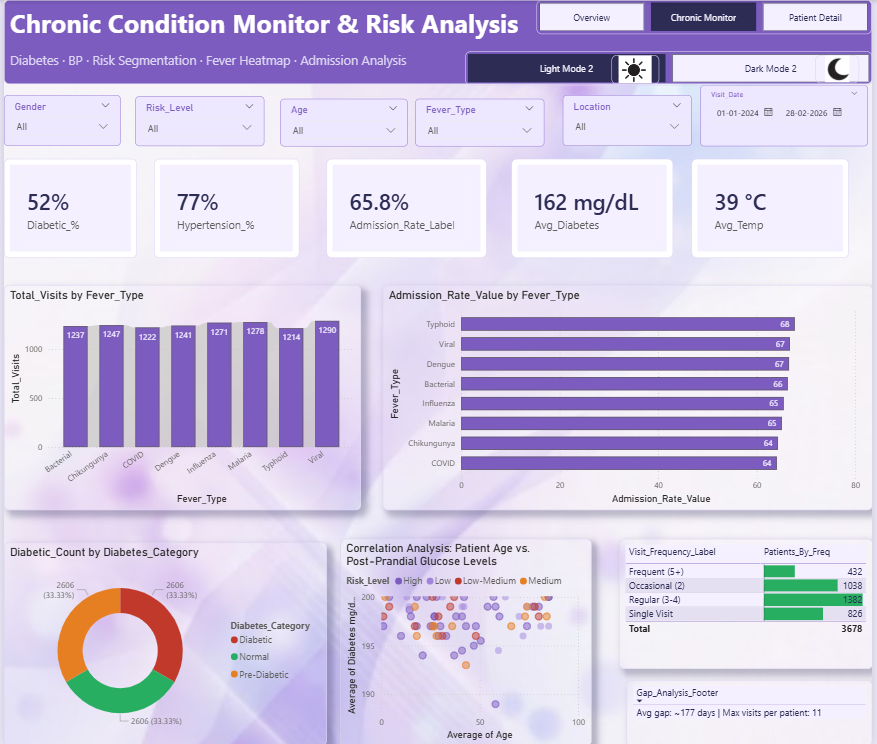

What the dashboard file says about the page in this screenshot:
{"tool":"powerbi","page":{"name":"Chronic Monitor","canvas":[1280,1100],"ordinal":1},"visuals":[{"type":"slicer","fields":{"Values":["Patient_Symptoms.Gender"]},"box":[0,140,171.7,75],"z":1000},{"type":"slicer","fields":{"Values":["Fever_Type_Profile.Risk_Level"]},"box":[193.3,141.7,190,73.3],"z":2000},{"type":"slicer","fields":{"Values":["Patient_Symptoms.Age"]},"box":[406.7,145,188.3,70],"z":3000},{"type":"slicer","fields":{"Values":["Fever_Type_Profile.Fever_Type"]},"box":[606.7,145,190,70],"z":4000},{"type":"slicer","fields":{"Values":["Patient_Symptoms.Location"]},"box":[823.3,140,190,75],"z":5000},{"type":"slicer","fields":{"Values":["Patient_Symptoms.Visit_Date"]},"box":[1026.2,125,247.5,90],"z":6000},{"type":"cardVisual","fields":{"Data":["Medication.Diabetic_Pct"]},"box":[0,234,196,146],"z":7000},{"type":"cardVisual","fields":{"Data":["Medication.Hypertension_Pct"]},"box":[222,234,214,146],"z":8000},{"type":"cardVisual","fields":{"Data":["Blood_Test_Results.Admission_Rate_Label"]},"box":[476,234,236,146],"z":9000},{"type":"cardVisual","fields":{"Data":["Blood_Test_Results.Avg_Diabetes"]},"box":[748,234,238,146],"z":10000},{"type":"cardVisual","fields":{"Data":["Blood_Test_Results.Avg_Temperature"]},"box":[1014,234,232,146],"z":11000},{"type":"ribbonChart","fields":{"Category":["Fever_Type_Profile.Risk_Level","Fever_Type_Profile.Fever_Type"],"Y":["Divide(Blood_Test_Results.Total_Visits, ScopedEval(Blood_Test_Results.Total_Visits, [Role.Rows]))"]},"box":[0,420,526,332],"z":12000},{"type":"clusteredBarChart","fields":{"Category":["Fever_Type_Profile.Fever_Type"],"Y":["Blood_Test_Results.Admission_Rate"]},"box":[558,420,722,332],"z":13000},{"type":"scatterChart","title":"Correlation Analysis: Patient Age vs. Post-Prandial Glucose Levels","fields":{"X":["Avg(Patient_Symptoms.Age)"],"Y":["Avg(Patient_Symptoms.Diabetes mg/dL (2hr AfterMeal))"],"Series":["Fever_Type_Profile.Risk_Level"],"Category":["Patient_Symptoms.Patient_ID"]},"box":[496,794,370,306],"z":14000},{"type":"textbox","box":[0,0,1280,124.3],"z":15000},{"type":"pageNavigator","box":[785.7,0,494.3,50],"z":16000},{"type":"bookmarkNavigator","box":[680,75,600,50],"z":17000},{"type":"donutChart","fields":{"Category":["Patient_Symptoms.Diabetes_Category"],"Y":["Patient_Symptoms.Diabetic_Count"]},"box":[0,800,476,300],"z":18000},{"type":"tableEx","title":"Visit Gap Analysis","fields":{"Values":["Blood_Test_Results.Visit_Frequency_Label","Blood_Test_Results.Patients_By_Freq"]},"box":[906,794,374,192],"z":19000},{"type":"tableEx","fields":{"Values":["Patient_Symptoms.Gap_Analysis_Footer"]},"box":[918,1002,362,98],"z":20000},{"type":"image","box":[896.2,80.8,70,43.1],"z":20001},{"type":"image","box":[1195.4,80.8,64.6,41.5],"z":20002}]}

Visuals, with their boxes in screenshot pixels (x1, y1, x2, y2), scaled from the page's 1280x1100 canvas onto the 877x744 screenshot:
slicer - Patient_Symptoms.Gender: l=0, t=95, r=118, b=145
slicer - Fever_Type_Profile.Risk_Level: l=132, t=96, r=263, b=145
slicer - Patient_Symptoms.Age: l=279, t=98, r=408, b=145
slicer - Fever_Type_Profile.Fever_Type: l=416, t=98, r=546, b=145
slicer - Patient_Symptoms.Location: l=564, t=95, r=694, b=145
slicer - Patient_Symptoms.Visit_Date: l=703, t=85, r=873, b=145
cardVisual - Medication.Diabetic_Pct: l=0, t=158, r=134, b=257
cardVisual - Medication.Hypertension_Pct: l=152, t=158, r=299, b=257
cardVisual - Blood_Test_Results.Admission_Rate_Label: l=326, t=158, r=488, b=257
cardVisual - Blood_Test_Results.Avg_Diabetes: l=512, t=158, r=676, b=257
cardVisual - Blood_Test_Results.Avg_Temperature: l=695, t=158, r=854, b=257
ribbonChart - Fever_Type_Profile.Risk_Level x Fever_Type_Profile.Fever_Type: l=0, t=284, r=360, b=509
clusteredBarChart - Fever_Type_Profile.Fever_Type x Blood_Test_Results.Admission_Rate: l=382, t=284, r=876, b=509
"Correlation Analysis: Patient Age vs. Post-Prandial Glucose Levels" scatterChart: l=340, t=537, r=593, b=743
textbox: l=0, t=0, r=876, b=84
pageNavigator: l=538, t=0, r=876, b=34
bookmarkNavigator: l=466, t=51, r=876, b=85
donutChart - Patient_Symptoms.Diabetes_Category x Patient_Symptoms.Diabetic_Count: l=0, t=541, r=326, b=743
"Visit Gap Analysis" tableEx: l=621, t=537, r=876, b=667
tableEx - Patient_Symptoms.Gap_Analysis_Footer: l=629, t=678, r=876, b=743
image: l=614, t=55, r=662, b=84
image: l=819, t=55, r=863, b=83
